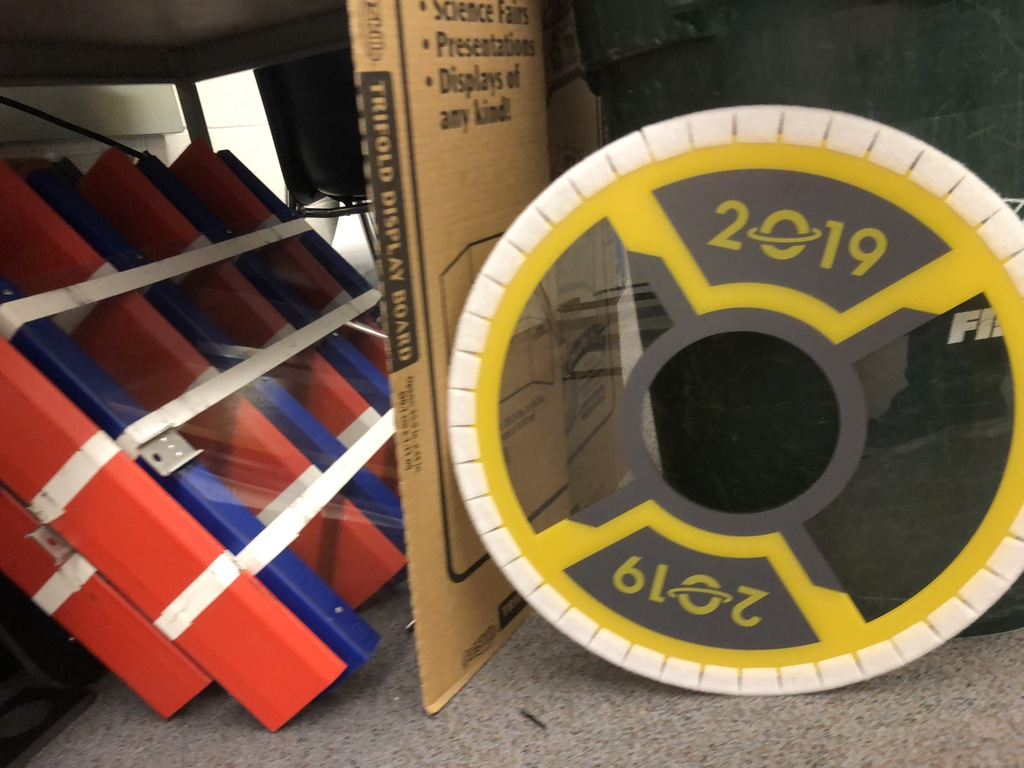hatch_panel: (450, 89, 1024, 709)
